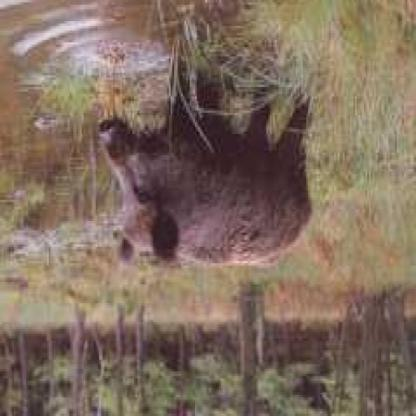boar: (87, 80, 344, 291)
